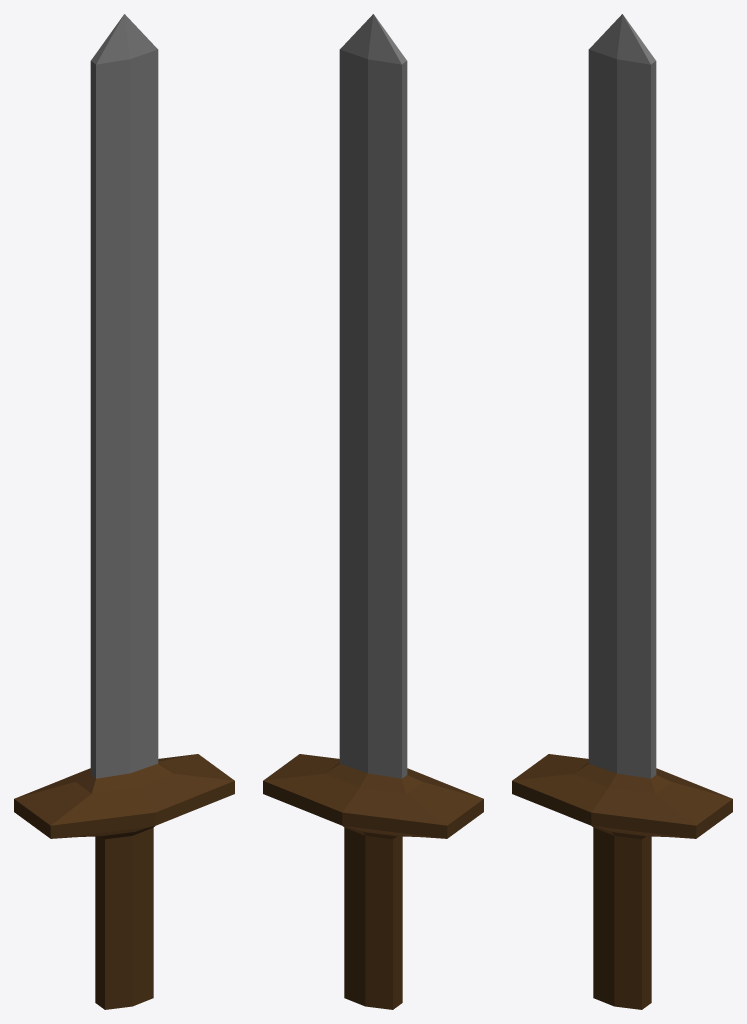
The model's file is espadita.glb.
3 views of the same model, side by side, from view 1: azimuth 30°, elevation 25°; view 2: azimuth 150°, elevation 25°; view 3: azimuth 330°, elevation 25° (orthographic).
Visible parts, largest first — view 1: Plano; view 2: Plano; view 3: Plano.
Part boxes in pixels (x1,y1,x2,y2): Plano: (14, 14, 234, 1009); Plano: (263, 14, 483, 1009); Plano: (512, 14, 732, 1009).
Bounding box in the file's own units: 0.3434 × 1.76 × 0.2008.
